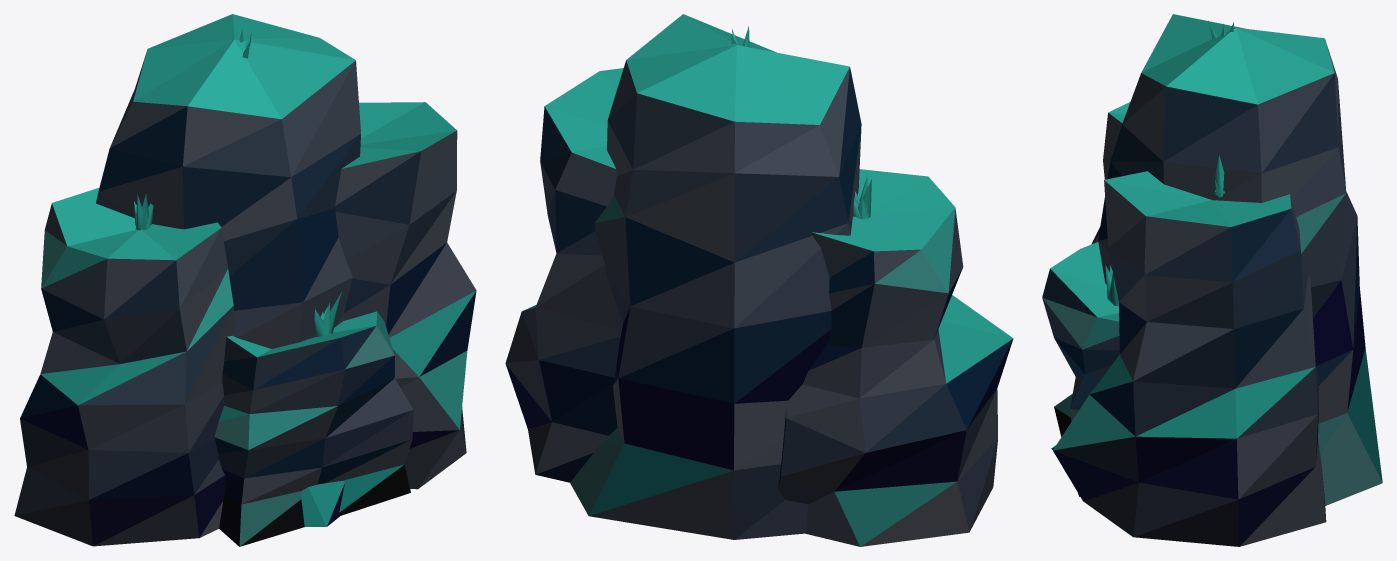
The model's file is batu_cliff_basalt_342159.glb.
3 renders of one model, left to right at view 1: azimuth 30°, elevation 25°; view 2: azimuth 150°, elevation 25°; view 3: azimuth 270°, elevation 25°, orthographic. The views are drawn at different scales.
Parts seen in each view (by area): view 1: Tebing_Sungai_Curam; view 2: Tebing_Sungai_Curam; view 3: Tebing_Sungai_Curam.
Boxes of the visible parts, box(x1,y1,x2,y2) form: Tebing_Sungai_Curam: box(14, 14, 476, 546); Tebing_Sungai_Curam: box(505, 14, 1013, 546); Tebing_Sungai_Curam: box(1042, 14, 1382, 546).
Bounding box in the file's own units: 7.33 × 6.76 × 4.84.
